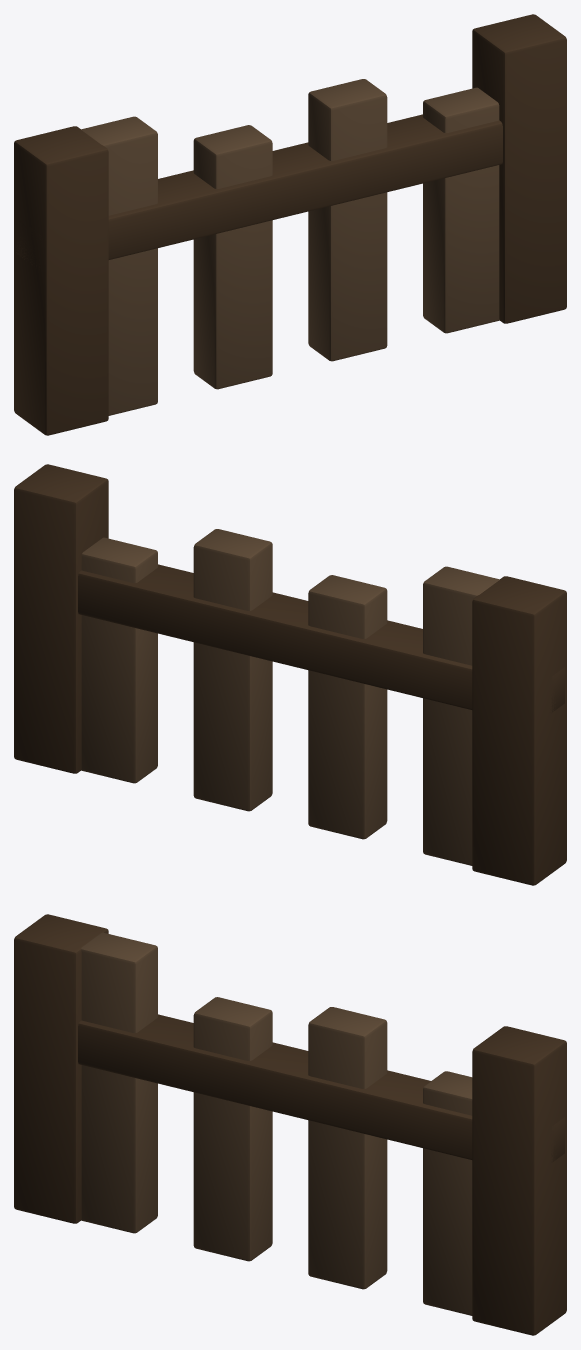
Rendered from proving-floor_cover_0.glb.
3 views of the same model, one above another, from view 1: azimuth 30°, elevation 25°; view 2: azimuth 150°, elevation 25°; view 3: azimuth 330°, elevation 25° (orthographic).
Visible parts, largest first — view 1: barricade; view 2: barricade; view 3: barricade.
Part boxes in pixels (<box>): barricade: <box>14,14,566,435</box>; barricade: <box>14,464,566,885</box>; barricade: <box>14,914,566,1335</box>.
Size of the model in its own units: 0.9 by 0.45 by 0.1.
